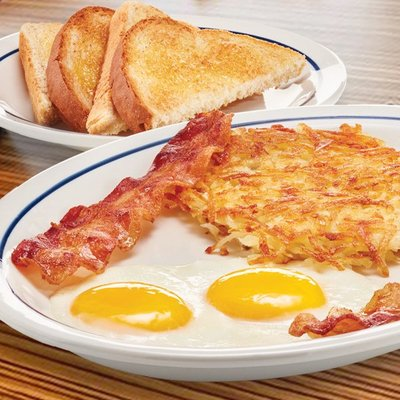soup: (18, 1, 307, 137)
